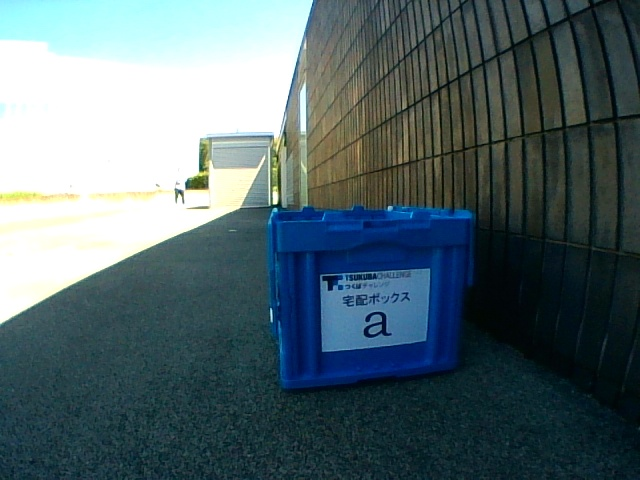blue_box: (267, 206, 473, 389)
tag_a: (332, 279, 420, 341)
